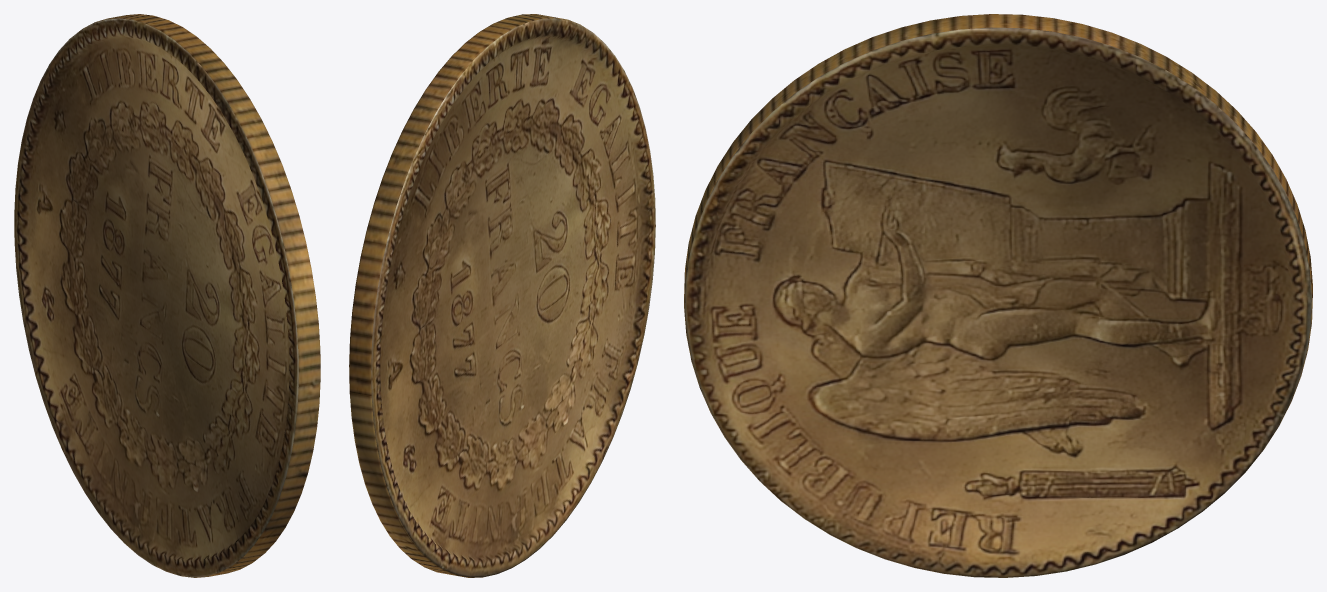
Rendered from 20_Frank.obj.
3 views of the same model, side by side, from view 1: azimuth 30°, elevation 25°; view 2: azimuth 150°, elevation 25°; view 3: azimuth 270°, elevation 25° (orthographic). The views are drawn at different scales.
Parts seen in each view (by area): view 1: 20_Frank; view 2: 20_Frank; view 3: 20_Frank.
Boxes of the visible parts, bbox=[...] form: 20_Frank: bbox=[14, 14, 320, 577]; 20_Frank: bbox=[349, 14, 655, 577]; 20_Frank: bbox=[684, 14, 1312, 577].
Size of the model in its own units: 0.00461 by 0.042 by 0.042.
